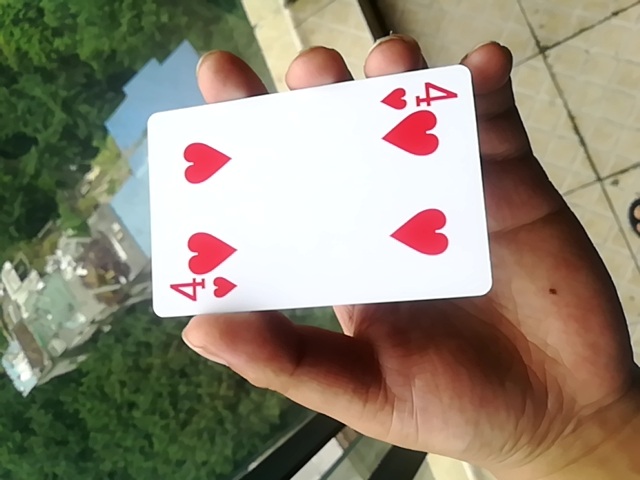hx 4: (141, 60, 491, 317)
